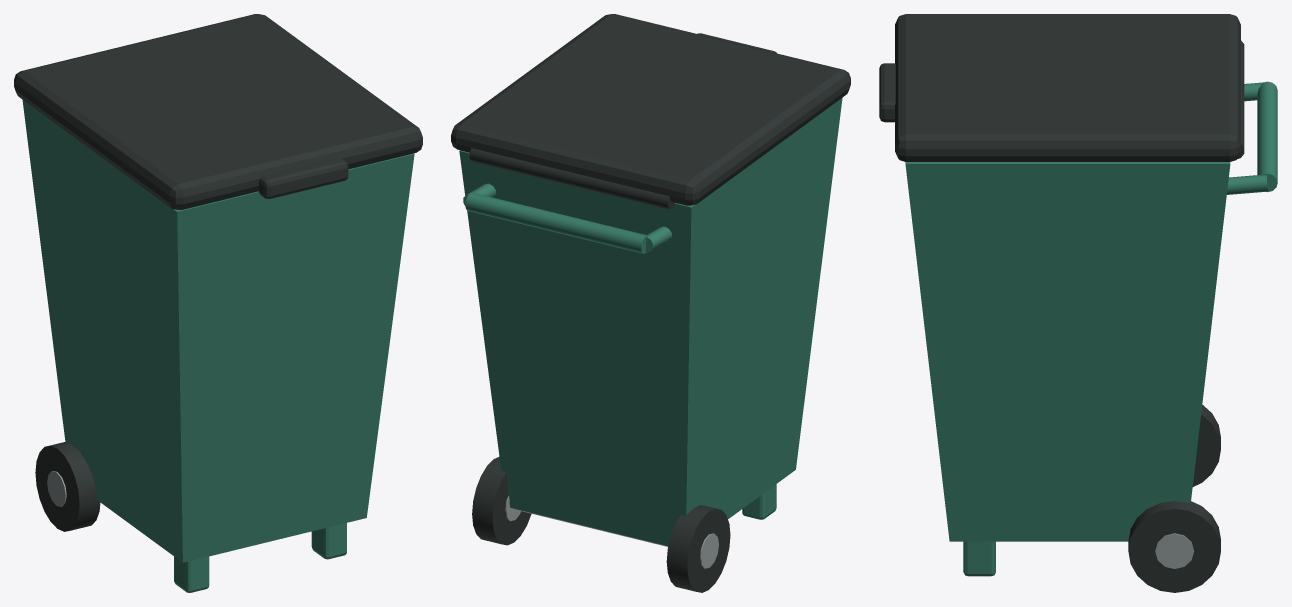
File: bin_wheeled_curbside.glb
3 renders of one model, left to right at view 1: azimuth 30°, elevation 25°; view 2: azimuth 150°, elevation 25°; view 3: azimuth 270°, elevation 25°, orthographic. The views are drawn at different scales.
Parts seen in each view (by area): view 1: Wheeled hollow bin body, Separate hinged lid, Rear wheel, Front lid grip, Front resting foot, Front resting foot.001, Wheel hub; view 2: Wheeled hollow bin body, Separate hinged lid, Rear wheel, Back push handle, Rear wheel.001, Lid hinge, Front resting foot; view 3: Wheeled hollow bin body, Separate hinged lid, Rear wheel.001, Back push handle, Rear wheel, Front resting foot.001, Wheel hub.001, Front lid grip, Handle attachment.001.
Part boxes in pixels (box(x1,y1,x2,y2)): Wheeled hollow bin body: box(22, 99, 414, 562); Separate hinged lid: box(14, 14, 422, 209); Rear wheel: box(35, 442, 100, 531); Front lid grip: box(258, 158, 348, 198); Front resting foot: box(174, 556, 209, 592); Front resting foot.001: box(311, 523, 346, 559); Wheel hub: box(47, 471, 66, 506); Wheeled hollow bin body: box(459, 98, 842, 545); Separate hinged lid: box(451, 14, 850, 205); Rear wheel: box(666, 505, 730, 592); Back push handle: box(465, 192, 648, 253); Rear wheel.001: box(472, 456, 531, 545); Lid hinge: box(469, 148, 674, 209); Front resting foot: box(742, 484, 776, 519); Wheeled hollow bin body: box(905, 162, 1230, 541); Separate hinged lid: box(895, 14, 1240, 161); Rear wheel.001: box(1128, 501, 1220, 592); Back push handle: box(1257, 81, 1277, 192); Rear wheel: box(1192, 404, 1220, 486); Front resting foot.001: box(963, 541, 995, 576); Wheel hub.001: box(1155, 533, 1194, 568); Front lid grip: box(879, 63, 895, 122); Handle attachment.001: box(1227, 175, 1268, 194).
Size of the model in its own units: 0.66 by 1.1 by 0.8585.
